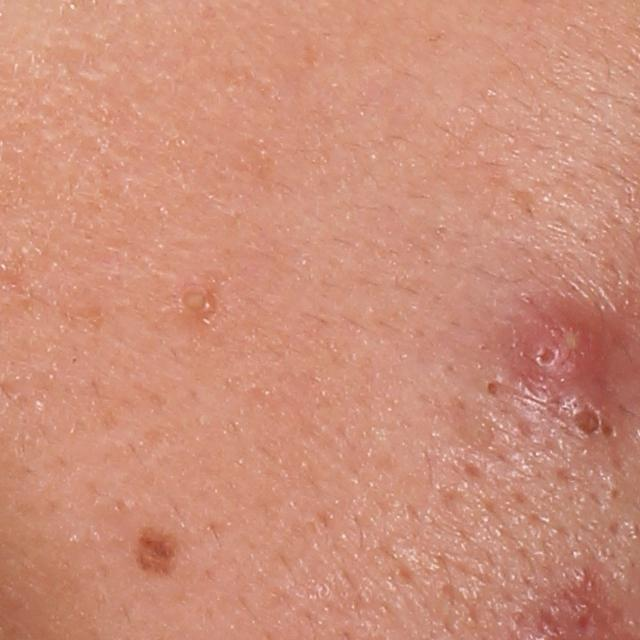comedo: (479, 373, 503, 401), (605, 481, 624, 503)
nevus: (127, 517, 176, 591)
papule: (557, 395, 614, 447)
pustule: (506, 293, 623, 395)
